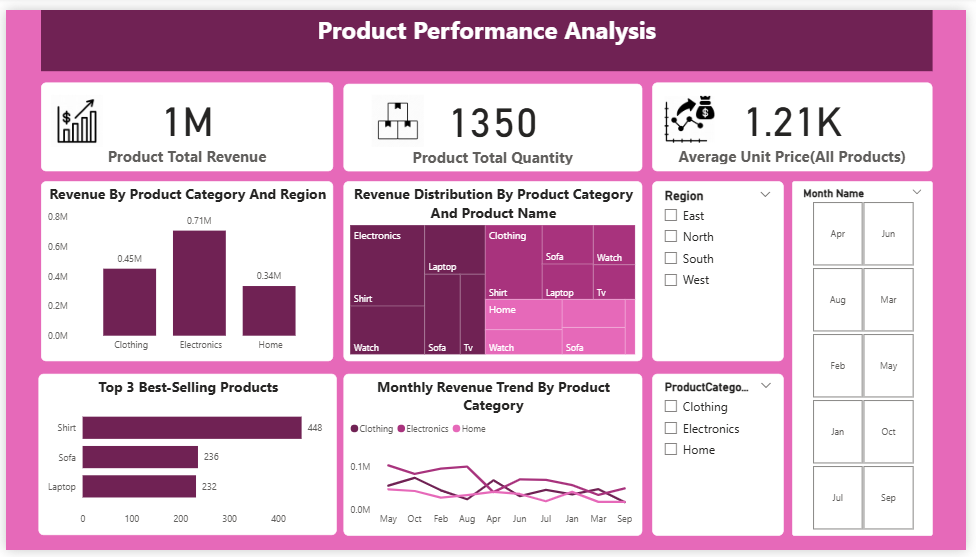

This screenshot's page, from the dashboard's own definition file:
{"tool":"powerbi","page":{"name":"Product Performance Analysis","canvas":[1280,720],"ordinal":1},"visuals":[{"type":"textbox","box":[46.5,0,1188.6,81.9],"z":0},{"type":"card","fields":{"Values":["sales_dataset.Product Total Revenue"]},"box":[47.1,96.5,389.7,118.2],"z":1},{"type":"card","fields":{"Values":["sales_dataset.Product Total Quantity"]},"box":[450,97.7,398.1,117],"z":2},{"type":"card","fields":{"Values":["sales_dataset.Average Unit Price(All Products)"]},"box":[861.4,96.5,374,118.2],"z":3},{"type":"columnChart","title":"Revenue By Product Category And Region","fields":{"Category":["sales_dataset.ProductCategory","sales_dataset.Region"],"Y":["sales_dataset.Total Revenue"]},"box":[46.7,227.8,389.7,240.1],"z":4},{"type":"barChart","title":"Top 3 Best-Selling Products","fields":{"Category":["sales_dataset.ProductName"],"Y":["sales_dataset.Total Quantity"]},"box":[42.5,484.4,397.9,215.4],"z":5},{"type":"lineChart","title":"Monthly Revenue Trend By Product Category","fields":{"Category":["Date.Month Name"],"Y":["sales_dataset.Total Revenue"],"Series":["sales_dataset.ProductCategory"]},"box":[450,485,398.1,216],"z":6},{"type":"treemap","title":"Revenue Distribution By Product Category And Product Name","fields":{"Group":["sales_dataset.ProductCategory"],"Details":["sales_dataset.ProductName"],"Values":["sales_dataset.Total Revenue"]},"box":[450,228,398.1,240.1],"z":7},{"type":"slicer","fields":{"Values":["sales_dataset.Region"]},"box":[861.4,228,174.9,240.1],"z":8},{"type":"slicer","fields":{"Values":["sales_dataset.ProductCategory"]},"box":[861.4,485,174.9,216],"z":9},{"type":"slicer","fields":{"Values":["Date.Month Name"]},"box":[1048.4,228,187,472.9],"z":10},{"type":"image","box":[55.5,108.6,79.6,79.6],"z":11},{"type":"image","box":[450,108.6,144.8,79.6],"z":12},{"type":"image","box":[873.5,103.8,76,84.5],"z":13}]}

Visuals, with their boxes in screenshot pixels (x1, y1, x2, y2), scaled from the page's 1280x720 canvas onto the 976x557 screenshot:
textbox: locate(35, 0, 942, 63)
card - sales_dataset.Product Total Revenue: locate(36, 75, 333, 166)
card - sales_dataset.Product Total Quantity: locate(343, 76, 647, 166)
card - sales_dataset.Average Unit Price(All Products): locate(657, 75, 942, 166)
"Revenue By Product Category And Region" columnChart: locate(36, 176, 333, 362)
"Top 3 Best-Selling Products" barChart: locate(32, 375, 336, 541)
"Monthly Revenue Trend By Product Category" lineChart: locate(343, 375, 647, 542)
"Revenue Distribution By Product Category And Product Name" treemap: locate(343, 176, 647, 362)
slicer - sales_dataset.Region: locate(657, 176, 790, 362)
slicer - sales_dataset.ProductCategory: locate(657, 375, 790, 542)
slicer - Date.Month Name: locate(799, 176, 942, 542)
image: locate(42, 84, 103, 146)
image: locate(343, 84, 454, 146)
image: locate(666, 80, 724, 146)
